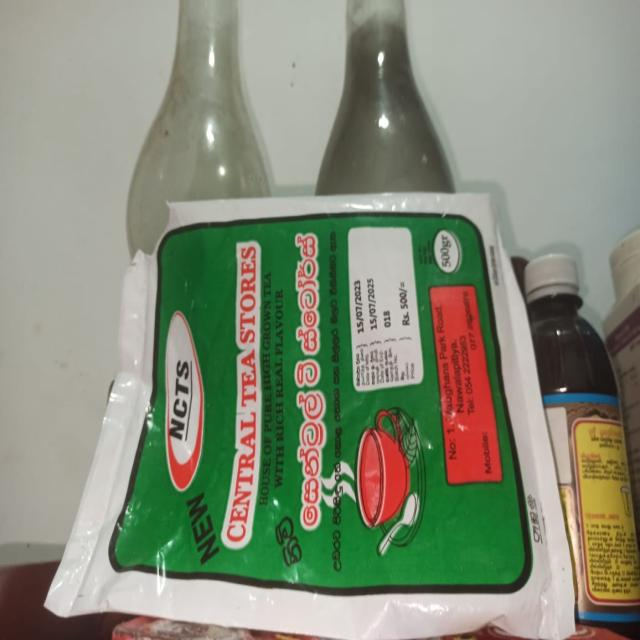Central Tea: (76, 208, 549, 622)
